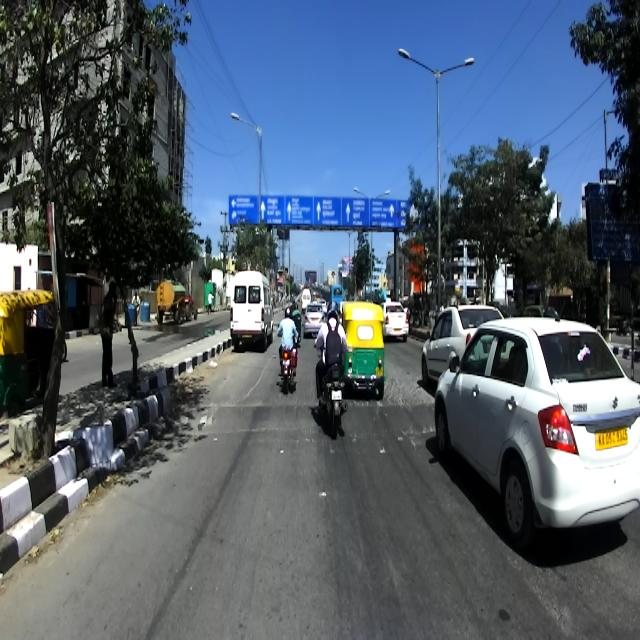bus ahead at: (222, 260, 270, 351)
car ahead at: (436, 324, 640, 547)
motorcycle ahead at: (312, 355, 351, 433), (275, 343, 301, 390)
tree ahead at: (3, 0, 188, 468)
